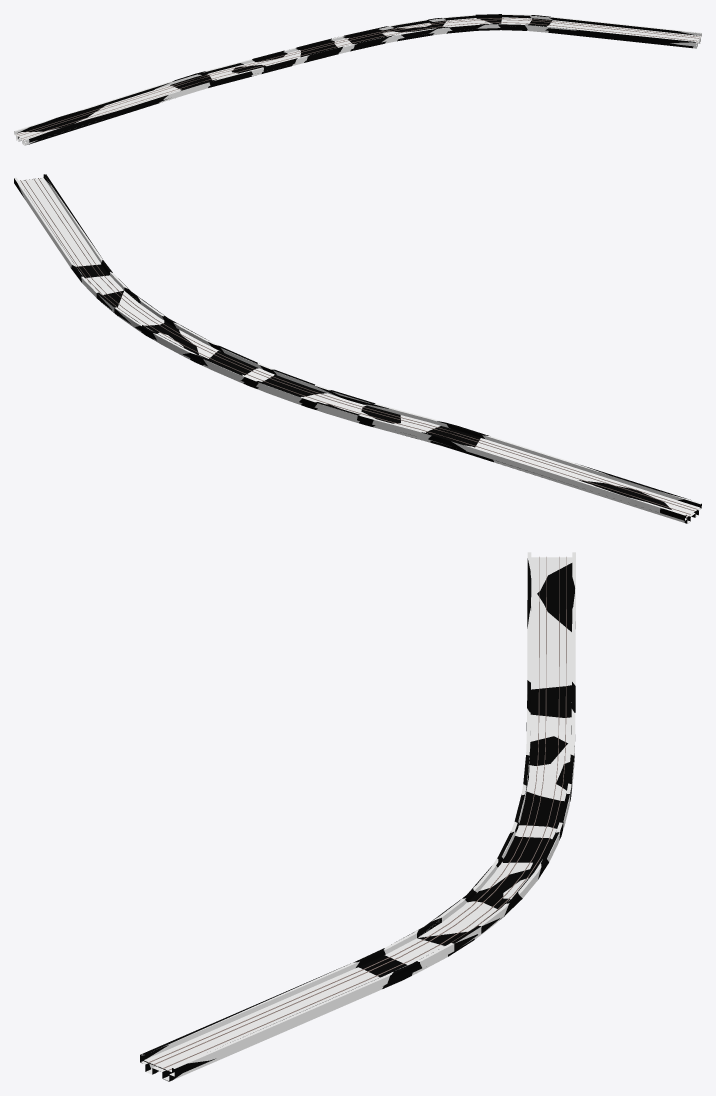
Rendered from elevated_rail_segment1.dae.
3 views of the same model, one above another, from view 1: azimuth 30°, elevation 25°; view 2: azimuth 150°, elevation 25°; view 3: azimuth 270°, elevation 25° (orthographic). The views are drawn at different scales.
Parts seen in each view (by area): view 1: elevated_rail_segment1_a2000, elevated_rail_segment1_a3000; view 2: elevated_rail_segment1_a3000, elevated_rail_segment1_a2000; view 3: elevated_rail_segment1_a3000, elevated_rail_segment1_a2000.
Part boxes in pixels (<box>): elevated_rail_segment1_a2000: <box>17,14,696,144</box>; elevated_rail_segment1_a3000: <box>14,14,701,145</box>; elevated_rail_segment1_a3000: <box>14,174,701,523</box>; elevated_rail_segment1_a2000: <box>14,174,701,523</box>; elevated_rail_segment1_a3000: <box>141,552,575,1080</box>; elevated_rail_segment1_a2000: <box>140,558,575,1081</box>.
Bounding box in the file's own units: 253 × 81.13 × 14.71.
